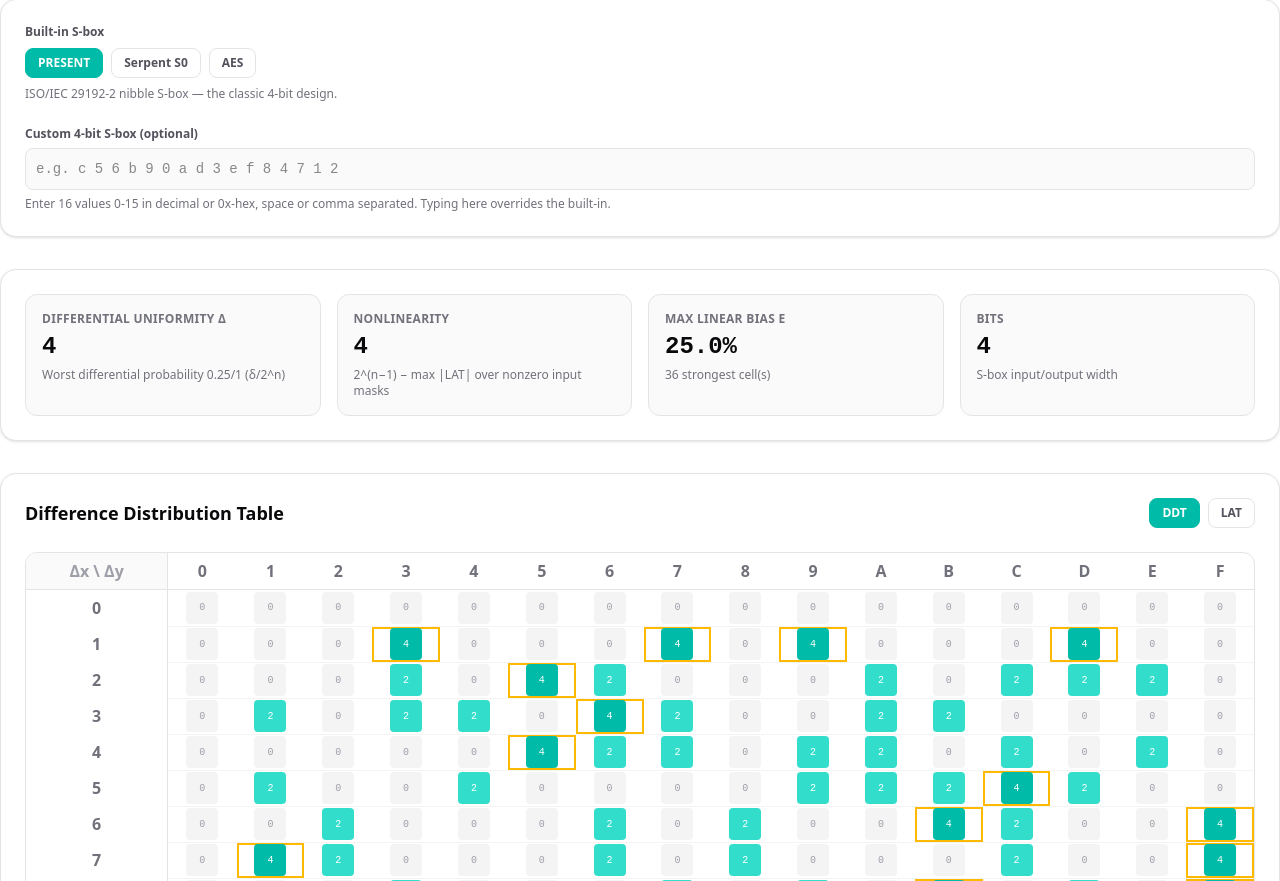
Test case: DDTLATWorkbench › displays detailed breakdown for a clicked DDT cell
Click the 4th button "4".
click(1084, 644)  # box [1068,628,1100,660]
(page scrolled)
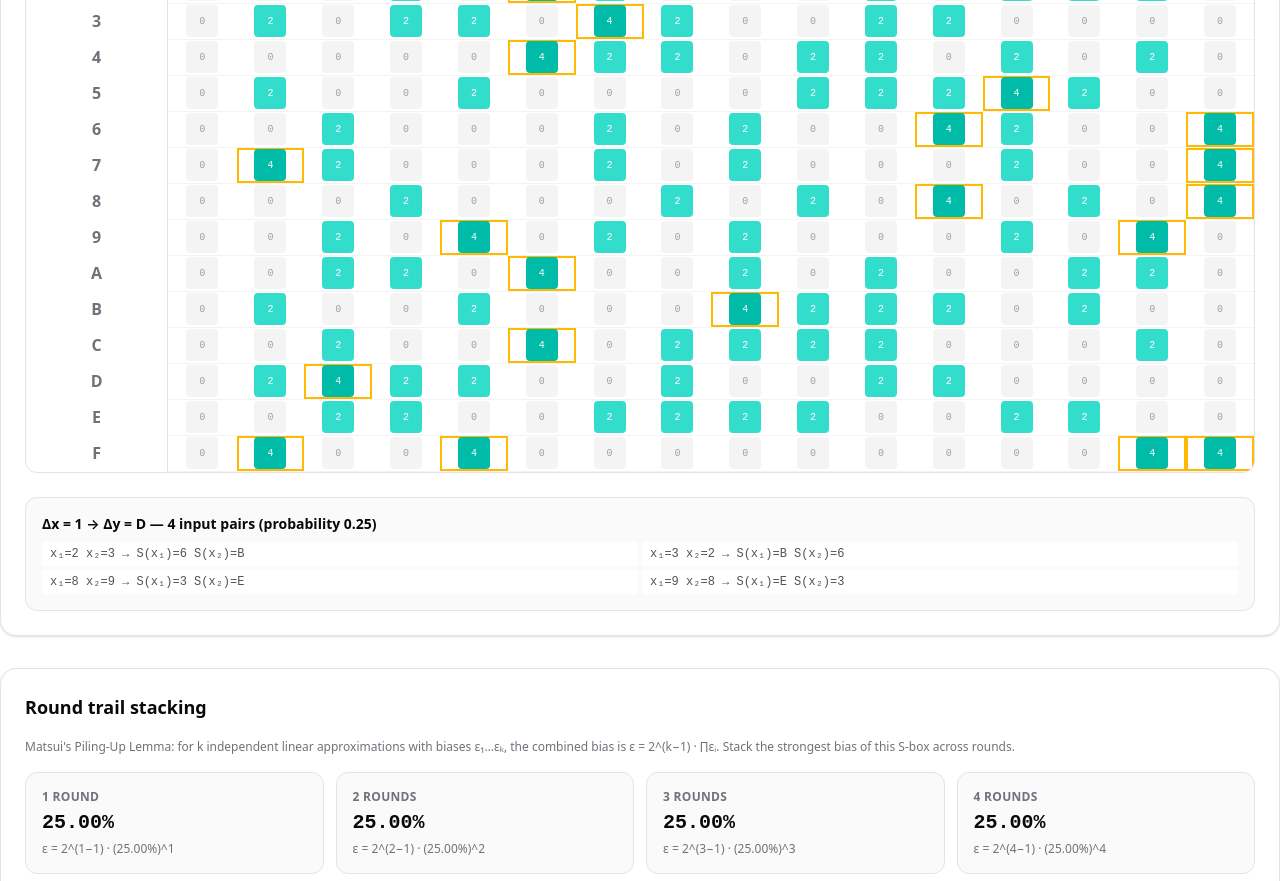
Now the text "Δx = 1 → Δy = D — 4 input pairs (probability 0.25)" is shown, box [42,514,377,532]
Now the list item "x₁=8 x₂=9 → S(x₁)=3 S(x₂)=E" is shown, box [42,570,638,594]
